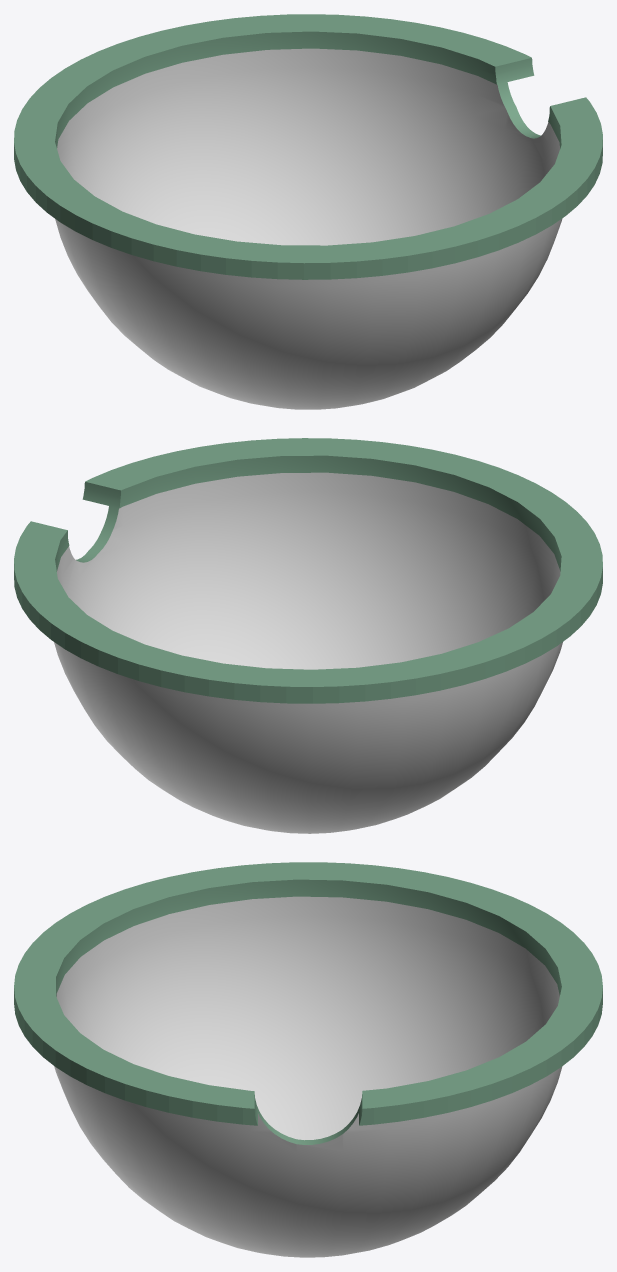
Rendered from 1hole.fbx.
The picture shows the model from 3 angles, top to bottom: view 1: azimuth 30°, elevation 25°; view 2: azimuth 150°, elevation 25°; view 3: azimuth 270°, elevation 25°; orthographic projection.
Parts seen in each view (by area): view 1: Sphere.031, Cylinder.089; view 2: Sphere.031, Cylinder.089; view 3: Sphere.031, Cylinder.089.
Boxes of the visible parts, <box> form: Sphere.031: <box>55,48,562,409</box>; Cylinder.089: <box>14,14,602,279</box>; Sphere.031: <box>54,472,562,833</box>; Cylinder.089: <box>14,438,602,703</box>; Sphere.031: <box>54,896,562,1257</box>; Cylinder.089: <box>14,862,602,1125</box>.
Bounding box in the file's own units: 4.48 × 2.08 × 4.52.
